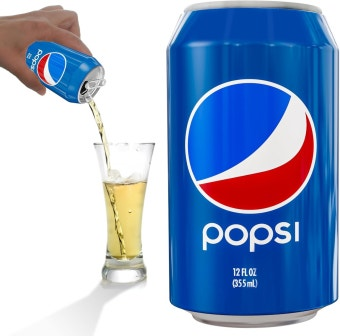paper: (164, 4, 340, 333), (23, 37, 107, 104)
